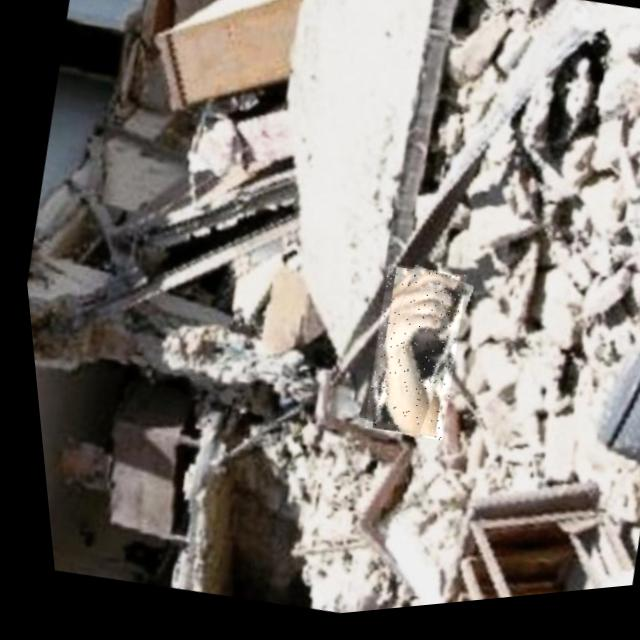Person in Rubble: (342, 264, 473, 453)
